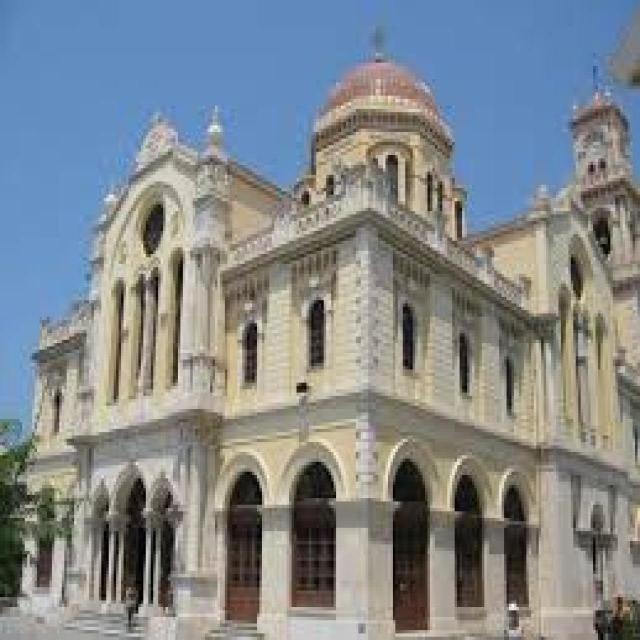Agios Minas: (37, 30, 640, 640)
